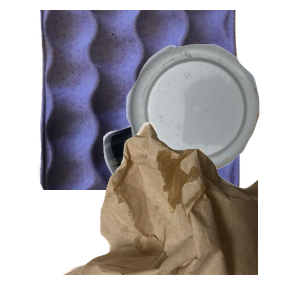glass: (37, 120, 231, 300)
paper: (35, 10, 268, 190)
plastic: (124, 42, 300, 210)
trash: (60, 120, 300, 300)
